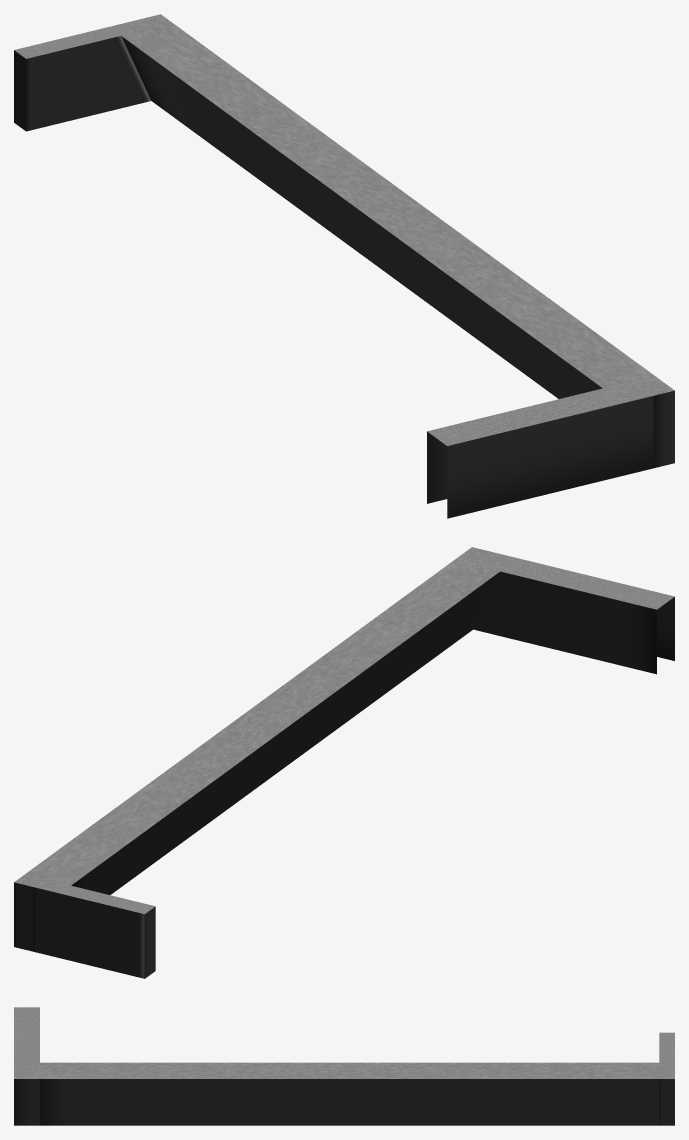
The model's file is Service_Counter.fbx.
3 renders of one model, top to bottom at view 1: azimuth 30°, elevation 25°; view 2: azimuth 150°, elevation 25°; view 3: azimuth 270°, elevation 25°, orthographic. The views are drawn at different scales.
Visible parts, largest first — view 1: pCube136; view 2: pCube136; view 3: pCube136.
Boxes of the visible parts, box(x1,y1,x2,y2) form: pCube136: box(14, 14, 674, 518); pCube136: box(14, 547, 674, 978); pCube136: box(14, 1007, 674, 1125).
Bounding box in the file's own units: 3.75 × 1.14 × 14.64.
